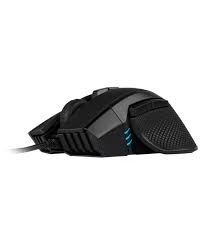mouse: (22, 48, 201, 167)
